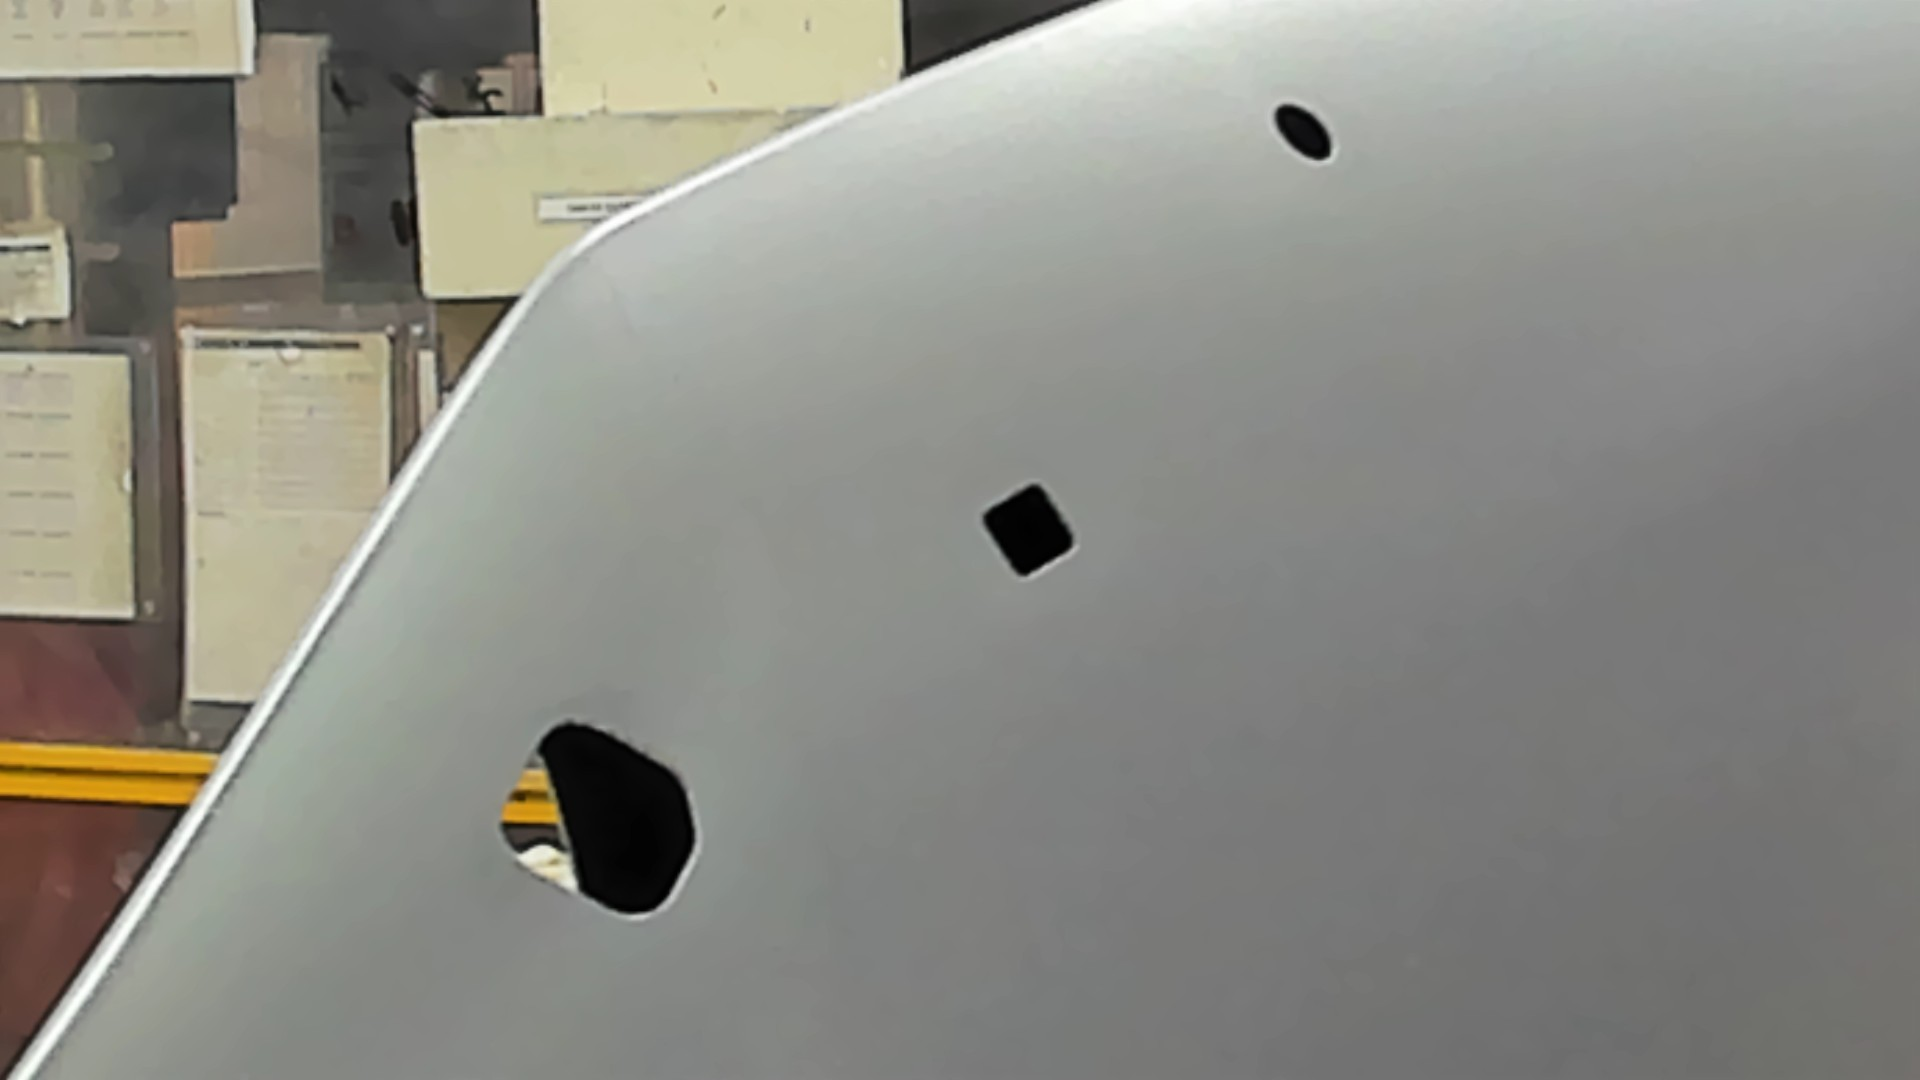chico: (1265, 96, 1338, 167)
grande: (491, 715, 705, 920)
mediano: (969, 476, 1083, 585)
